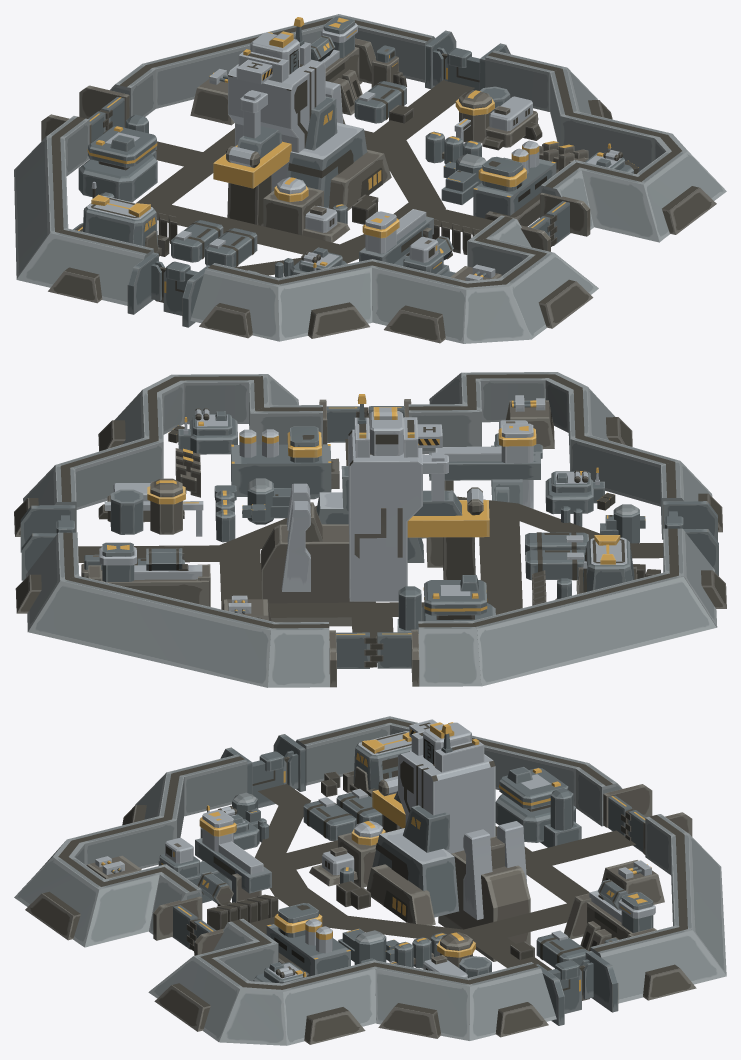
File: town_small.FBX
3 views of the same model, one above another, from view 1: azimuth 30°, elevation 25°; view 2: azimuth 150°, elevation 25°; view 3: azimuth 270°, elevation 25° (orthographic). The views are drawn at different scales.
Visible parts, largest first — view 1: town_small, 1, 3; view 2: town_small, 13, 1; view 3: town_small, 13, 3.
Boxes of the visible parts, x1=… form: town_small: x1=14, y1=14, x2=726, y2=343; 1: x1=240, y1=90, x2=267, y2=138; 3: x1=274, y1=177, x2=308, y2=202; town_small: x1=14, y1=372, x2=726, y2=687; 13: x1=398, y1=586, x2=421, y2=630; 1: x1=422, y1=452, x2=448, y2=501; town_small: x1=14, y1=716, x2=726, y2=1045; 13: x1=550, y1=788, x2=573, y2=830; 3: x1=351, y1=820, x2=385, y2=845.
Bounding box in the file's own units: 731 × 720 × 224.
Materials: 1 (1 with a texture image).
